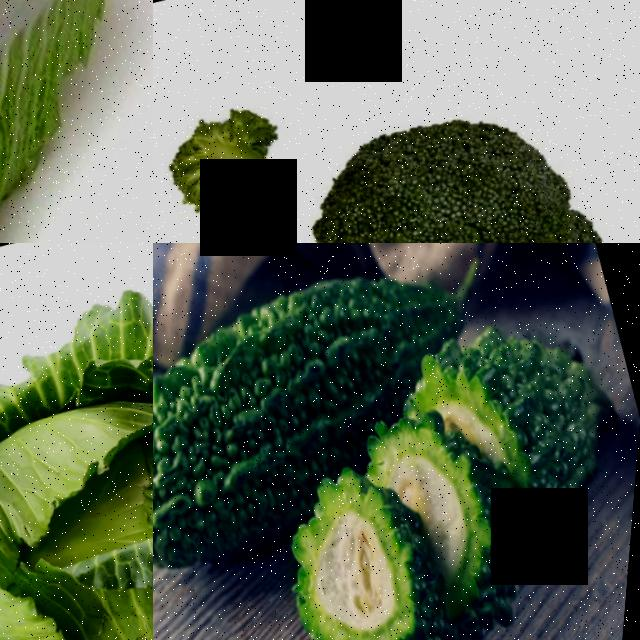bitter gourd: (153, 247, 461, 553), (448, 274, 640, 525), (259, 452, 480, 640), (386, 388, 541, 607)
broccoli: (307, 35, 640, 243), (153, 45, 342, 243), (153, 195, 329, 243)
cabbage: (0, 243, 153, 640), (0, 0, 153, 243)
